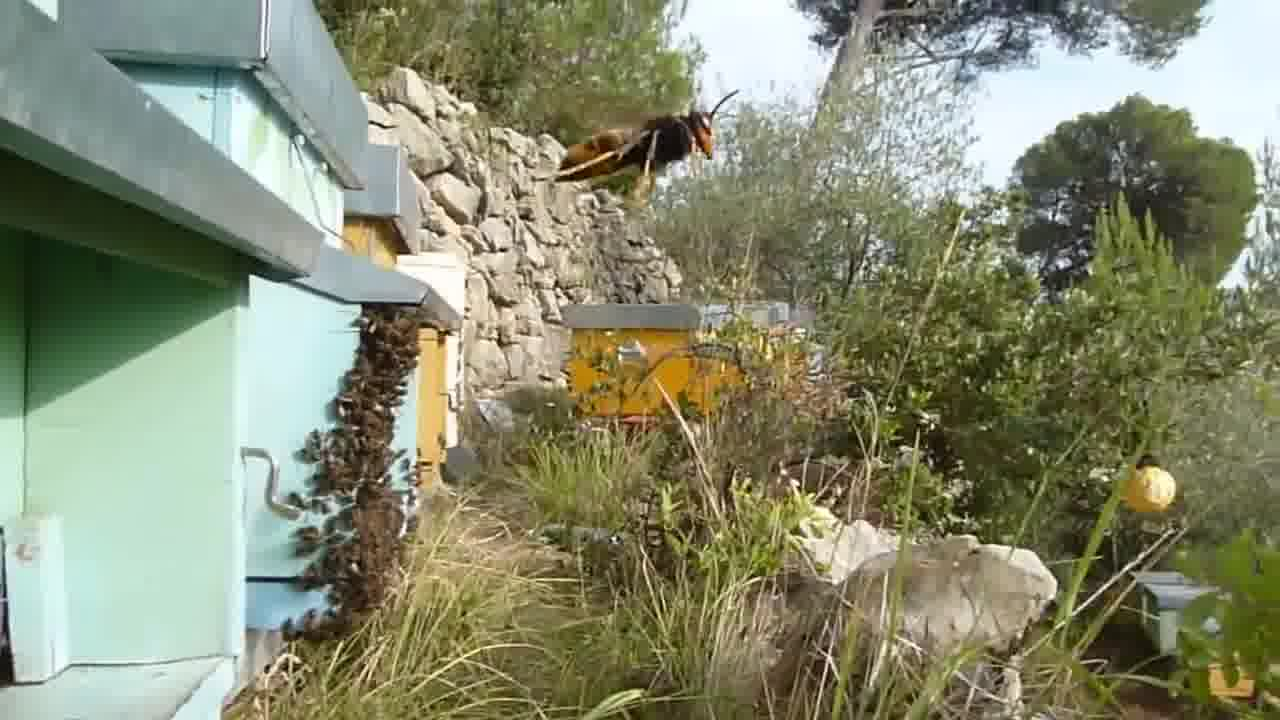bee: (296, 500, 396, 618), (313, 396, 401, 497), (340, 308, 415, 395)
hornet: (551, 100, 734, 208)
